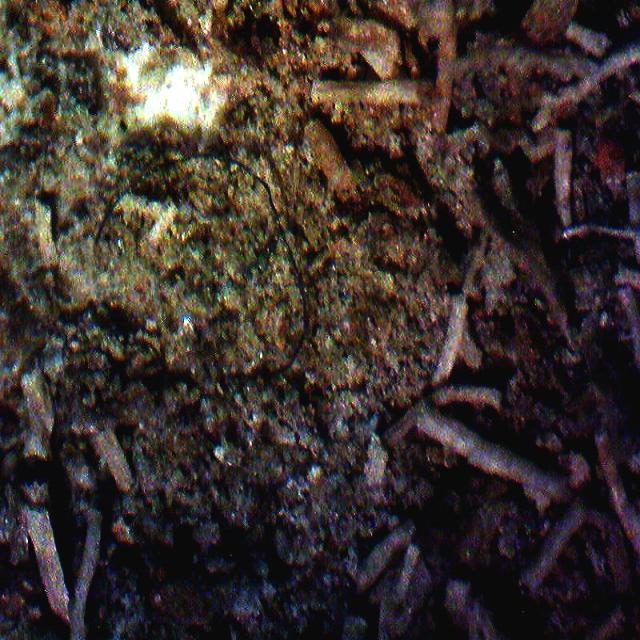microplastic: (86, 114, 375, 403)
